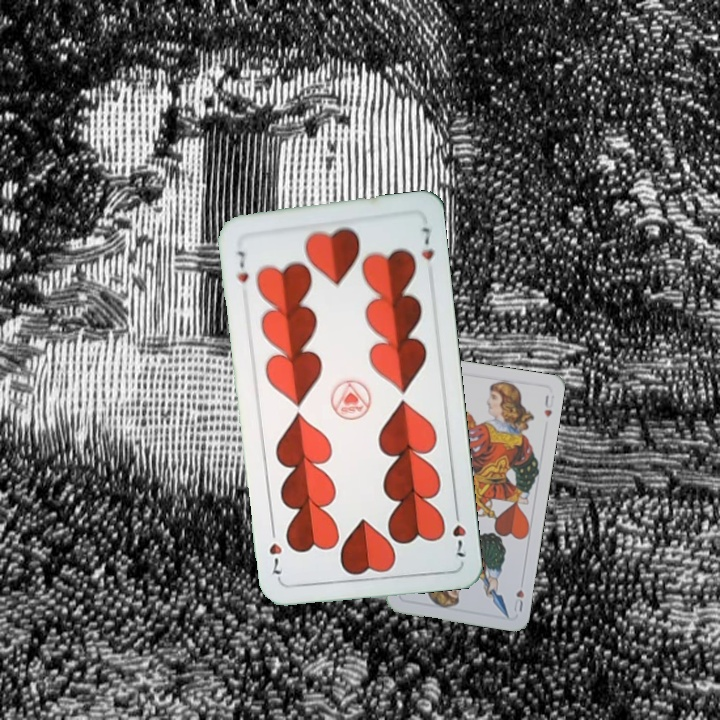H7: (448, 503, 469, 560), (233, 246, 251, 285)
HU: (510, 586, 527, 615)
